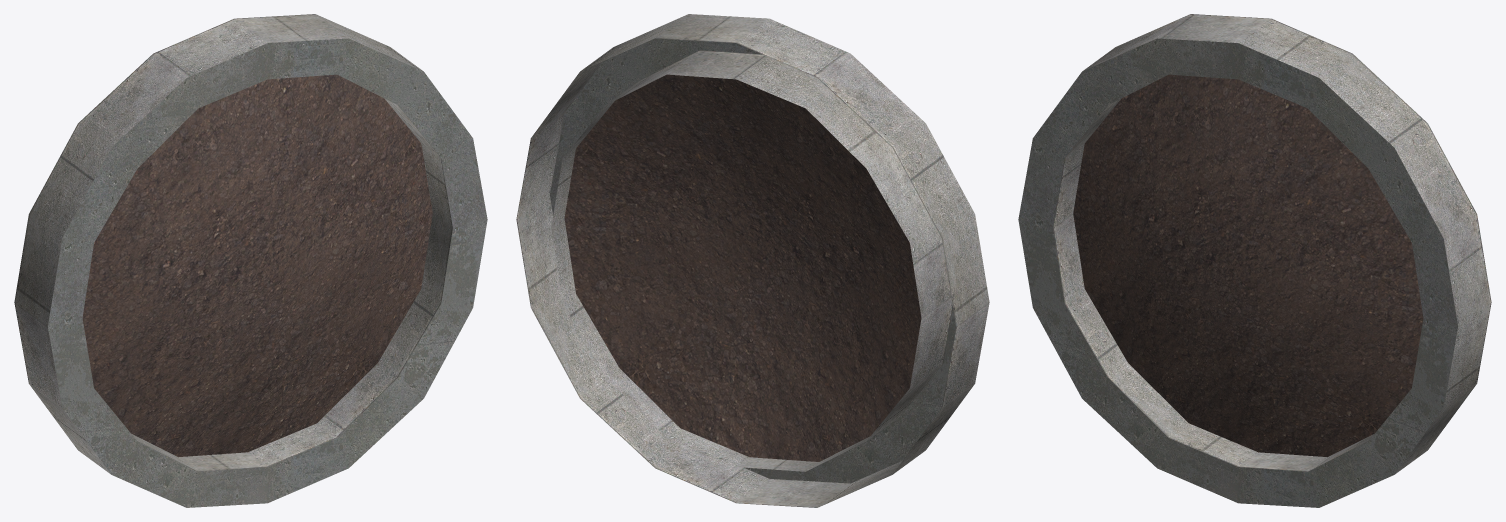
File: nt_2020_vista_planter_01_LOD0.obj
3 renders of one model, left to right at view 1: azimuth 30°, elevation 25°; view 2: azimuth 150°, elevation 25°; view 3: azimuth 330°, elevation 25°, orthographic.
Parts seen in each view (by area): view 1: jun_ter_dirt_packed, concrete_base02_shiny, concrete_sidewalk_tile_la2; view 2: jun_ter_dirt_packed, concrete_sidewalk_tile_la2, concrete_base02_shiny; view 3: jun_ter_dirt_packed, concrete_base02_shiny, concrete_sidewalk_tile_la2.
Boxes of the visible parts, x1,y1,x2,y2 form: jun_ter_dirt_packed: (82,74,432,457); concrete_base02_shiny: (48,38,487,507); concrete_sidewalk_tile_la2: (14,14,452,474); jun_ter_dirt_packed: (564,74,921,461); concrete_sidewalk_tile_la2: (516,14,989,507); concrete_base02_shiny: (550,38,955,483); jun_ter_dirt_packed: (1073,74,1423,457); concrete_base02_shiny: (1018,38,1457,507); concrete_sidewalk_tile_la2: (1053,14,1491,474).
Size of the model in its own units: 386 by 386 by 50.8.
